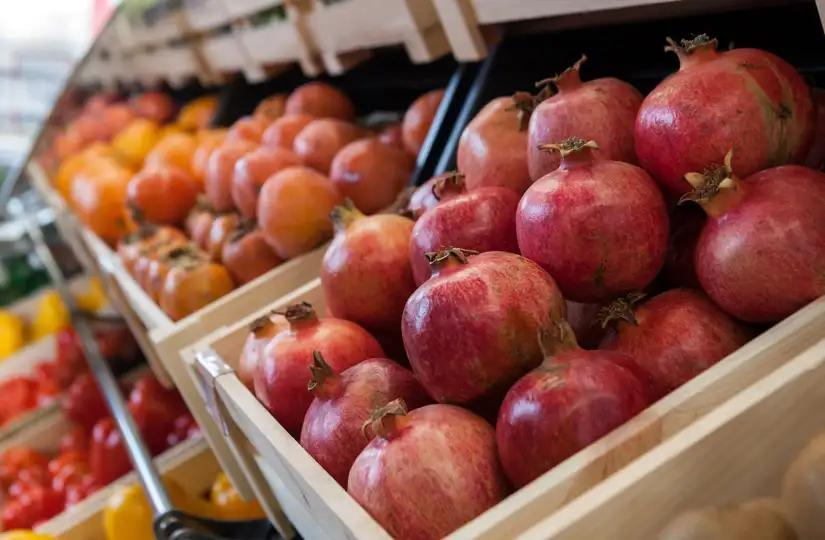pomegranate: (306, 25, 823, 537)
